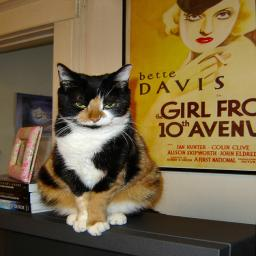catnose: (89, 109, 103, 124)
